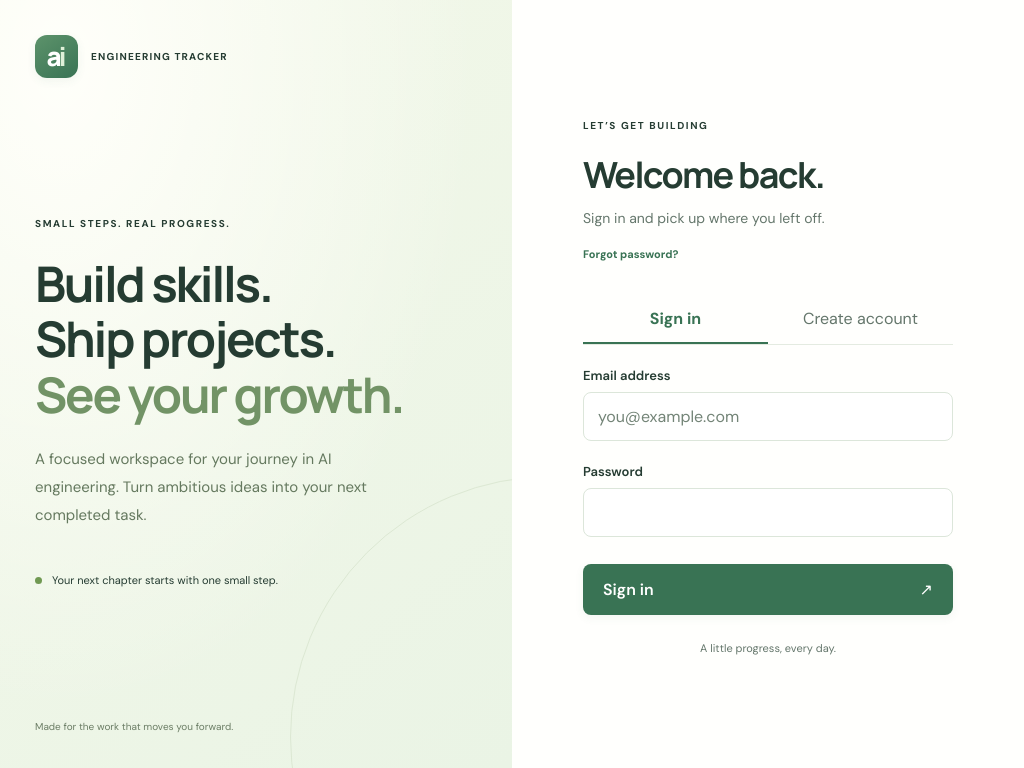
Test: offers account recovery without changing the sign-in form
Click the button "Forgot password?".
click(631, 254)  # box [583,247,678,261]
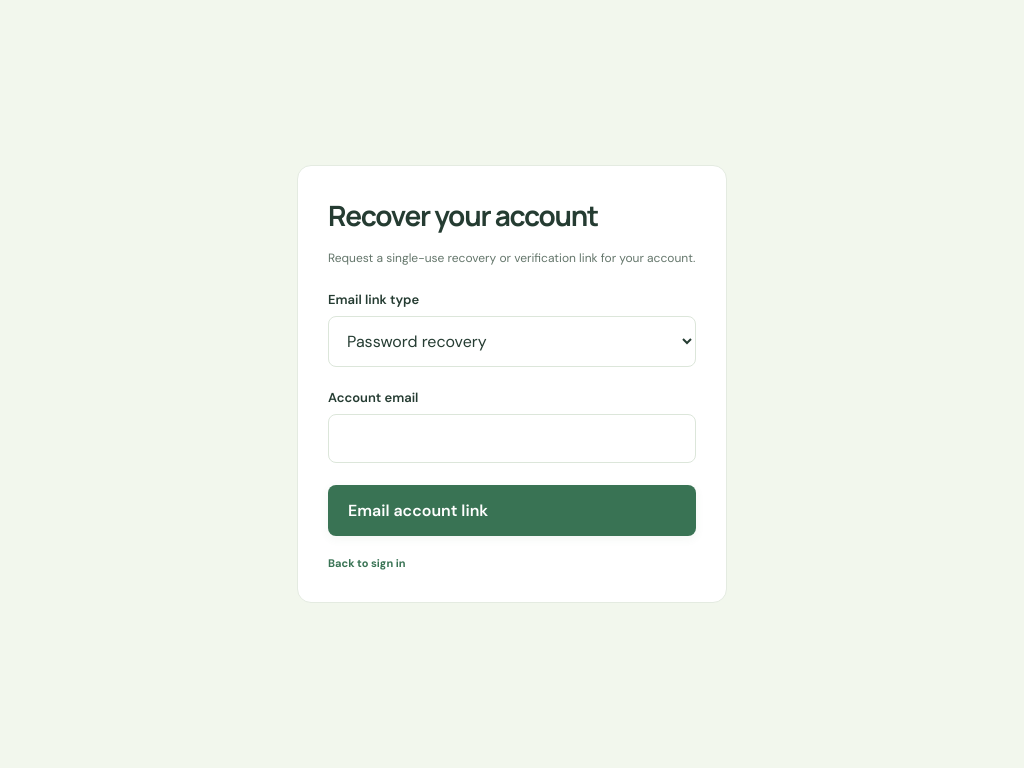
expect the heading "Recover your account" is shown: met, box [328,196,598,234]
Click the button "Back to sign in".
click(367, 563)  # box [328,556,406,570]
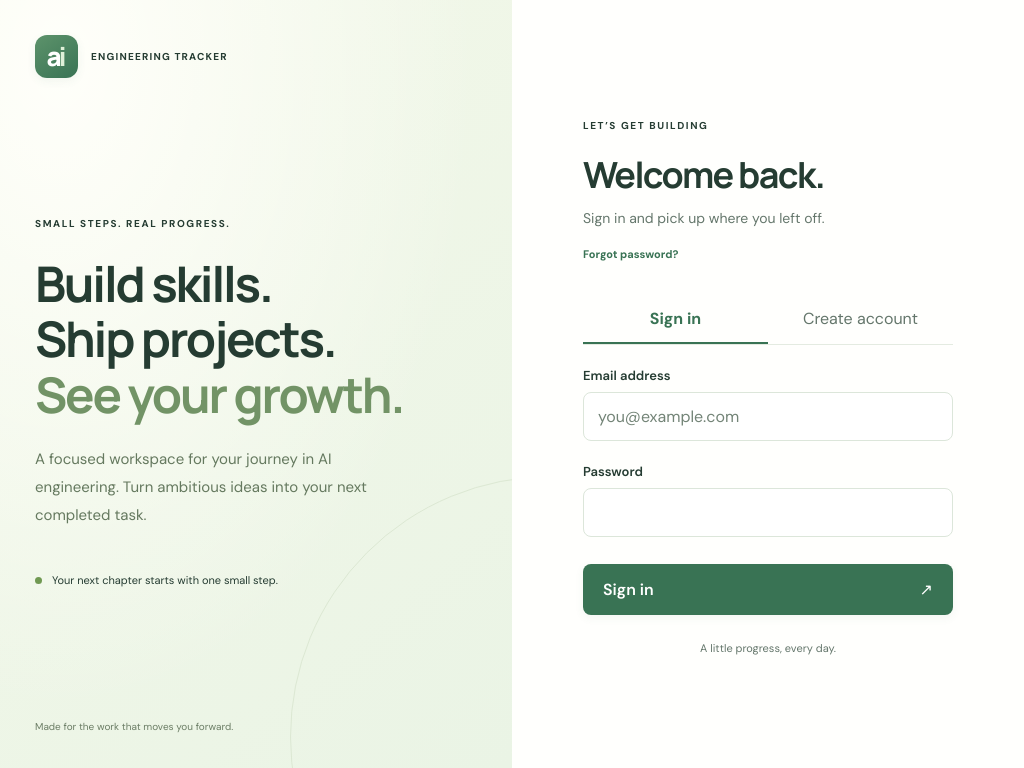
expect the heading "Welcome back." is shown: met, box [583,150,824,199]
